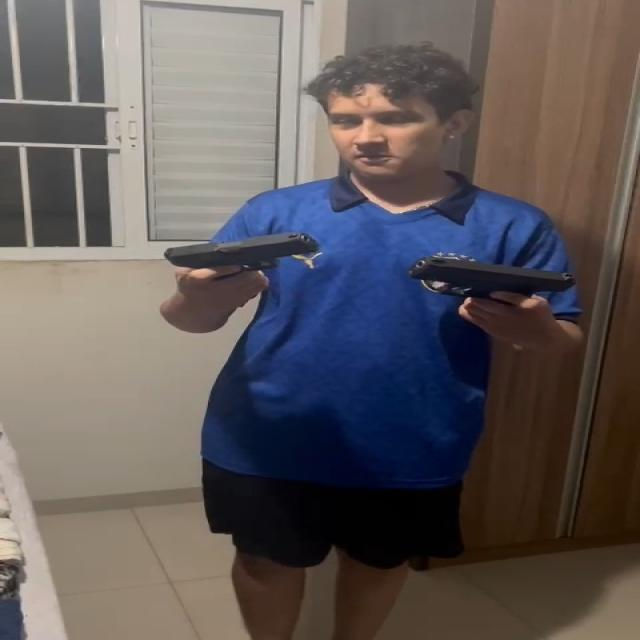gun: (408, 254, 582, 304), (162, 229, 326, 275)
